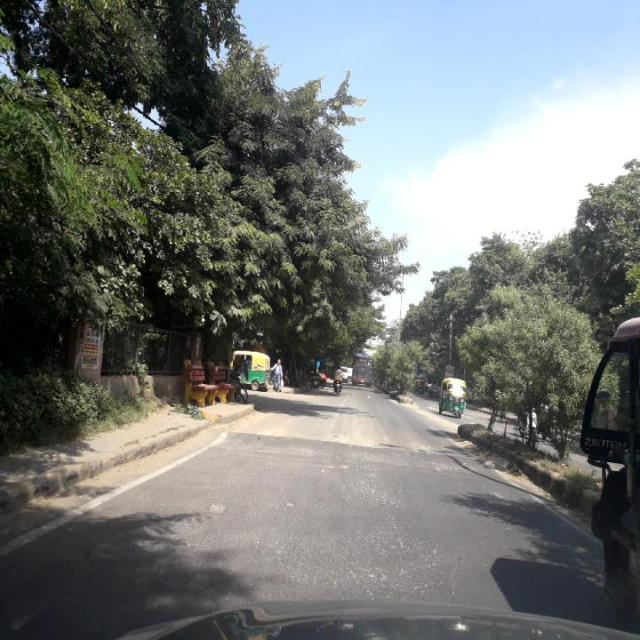D20: (254, 507, 462, 600), (332, 447, 404, 508)
D40: (201, 492, 234, 522)
